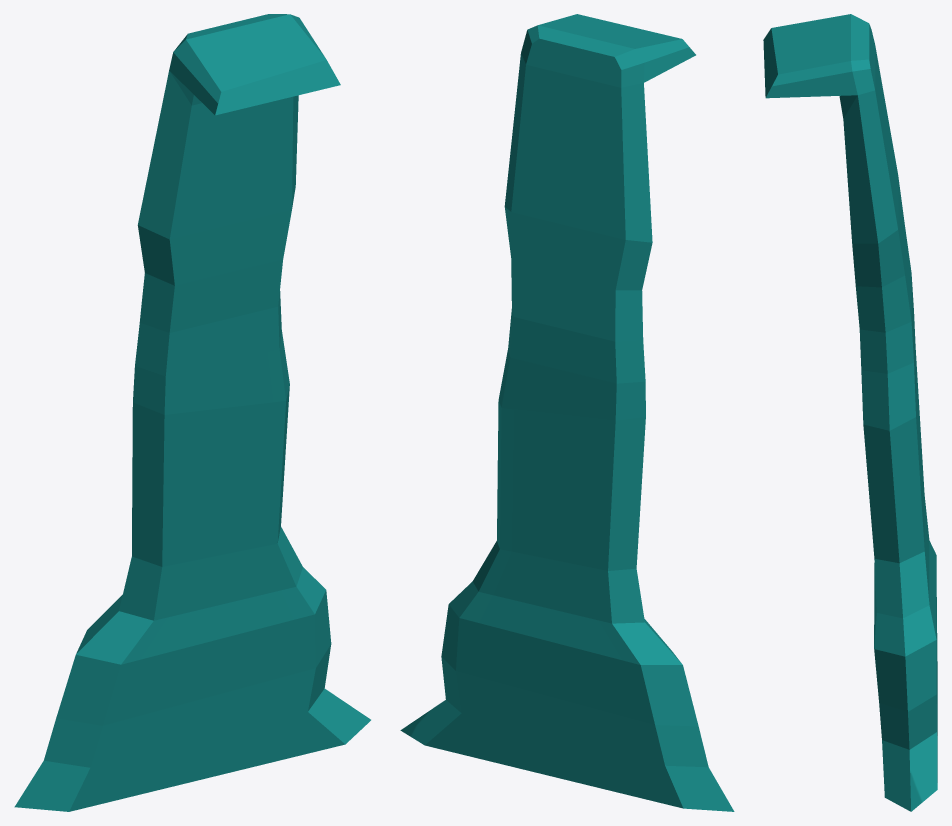
File: CascadaAnimada_000018.obj
The picture shows the model from 3 angles, left to right: view 1: azimuth 30°, elevation 25°; view 2: azimuth 150°, elevation 25°; view 3: azimuth 270°, elevation 25°; orthographic projection. The views are drawn at different scales.
Visible parts, largest first — view 1: Cube.053, Cube.054; view 2: Cube.053, Cube.054; view 3: Cube.053, Cube.054.
Part boxes in pixels (x1=…): Cube.053: x1=14, y1=14, x2=370, y2=811; Cube.054: x1=169, y1=14, x2=340, y2=115; Cube.053: x1=400, y1=25, x2=734, y2=811; Cube.054: x1=538, y1=14, x2=695, y2=82; Cube.053: x1=839, y1=14, x2=937, y2=811; Cube.054: x1=763, y1=14, x2=857, y2=98.
Size of the model in its own units: 136 by 277 by 62.23.
